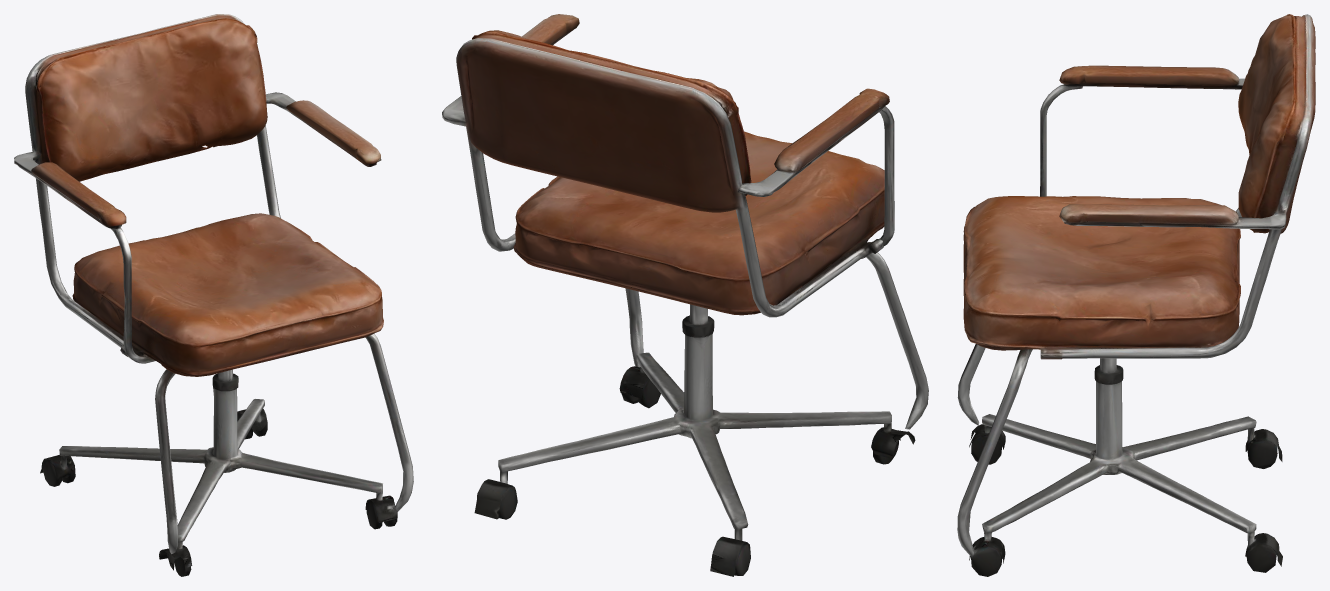
The model's file is chair.glb.
The picture shows the model from 3 angles, left to right: view 1: azimuth 30°, elevation 25°; view 2: azimuth 150°, elevation 25°; view 3: azimuth 270°, elevation 25°; orthographic projection. The views are drawn at different scales.
Visible parts, largest first — view 1: tripo_node_28279e2f-9b6d-4e6b-93f0-558f5bbceda4; view 2: tripo_node_28279e2f-9b6d-4e6b-93f0-558f5bbceda4; view 3: tripo_node_28279e2f-9b6d-4e6b-93f0-558f5bbceda4.
Boxes of the visible parts, <box> form: tripo_node_28279e2f-9b6d-4e6b-93f0-558f5bbceda4: <box>14,14,413,576</box>; tripo_node_28279e2f-9b6d-4e6b-93f0-558f5bbceda4: <box>442,14,928,576</box>; tripo_node_28279e2f-9b6d-4e6b-93f0-558f5bbceda4: <box>957,14,1315,576</box>.
Size of the model in its own units: 0.7014 by 0.9988 by 0.7103.
Materials: 1 (1 with a texture image).
